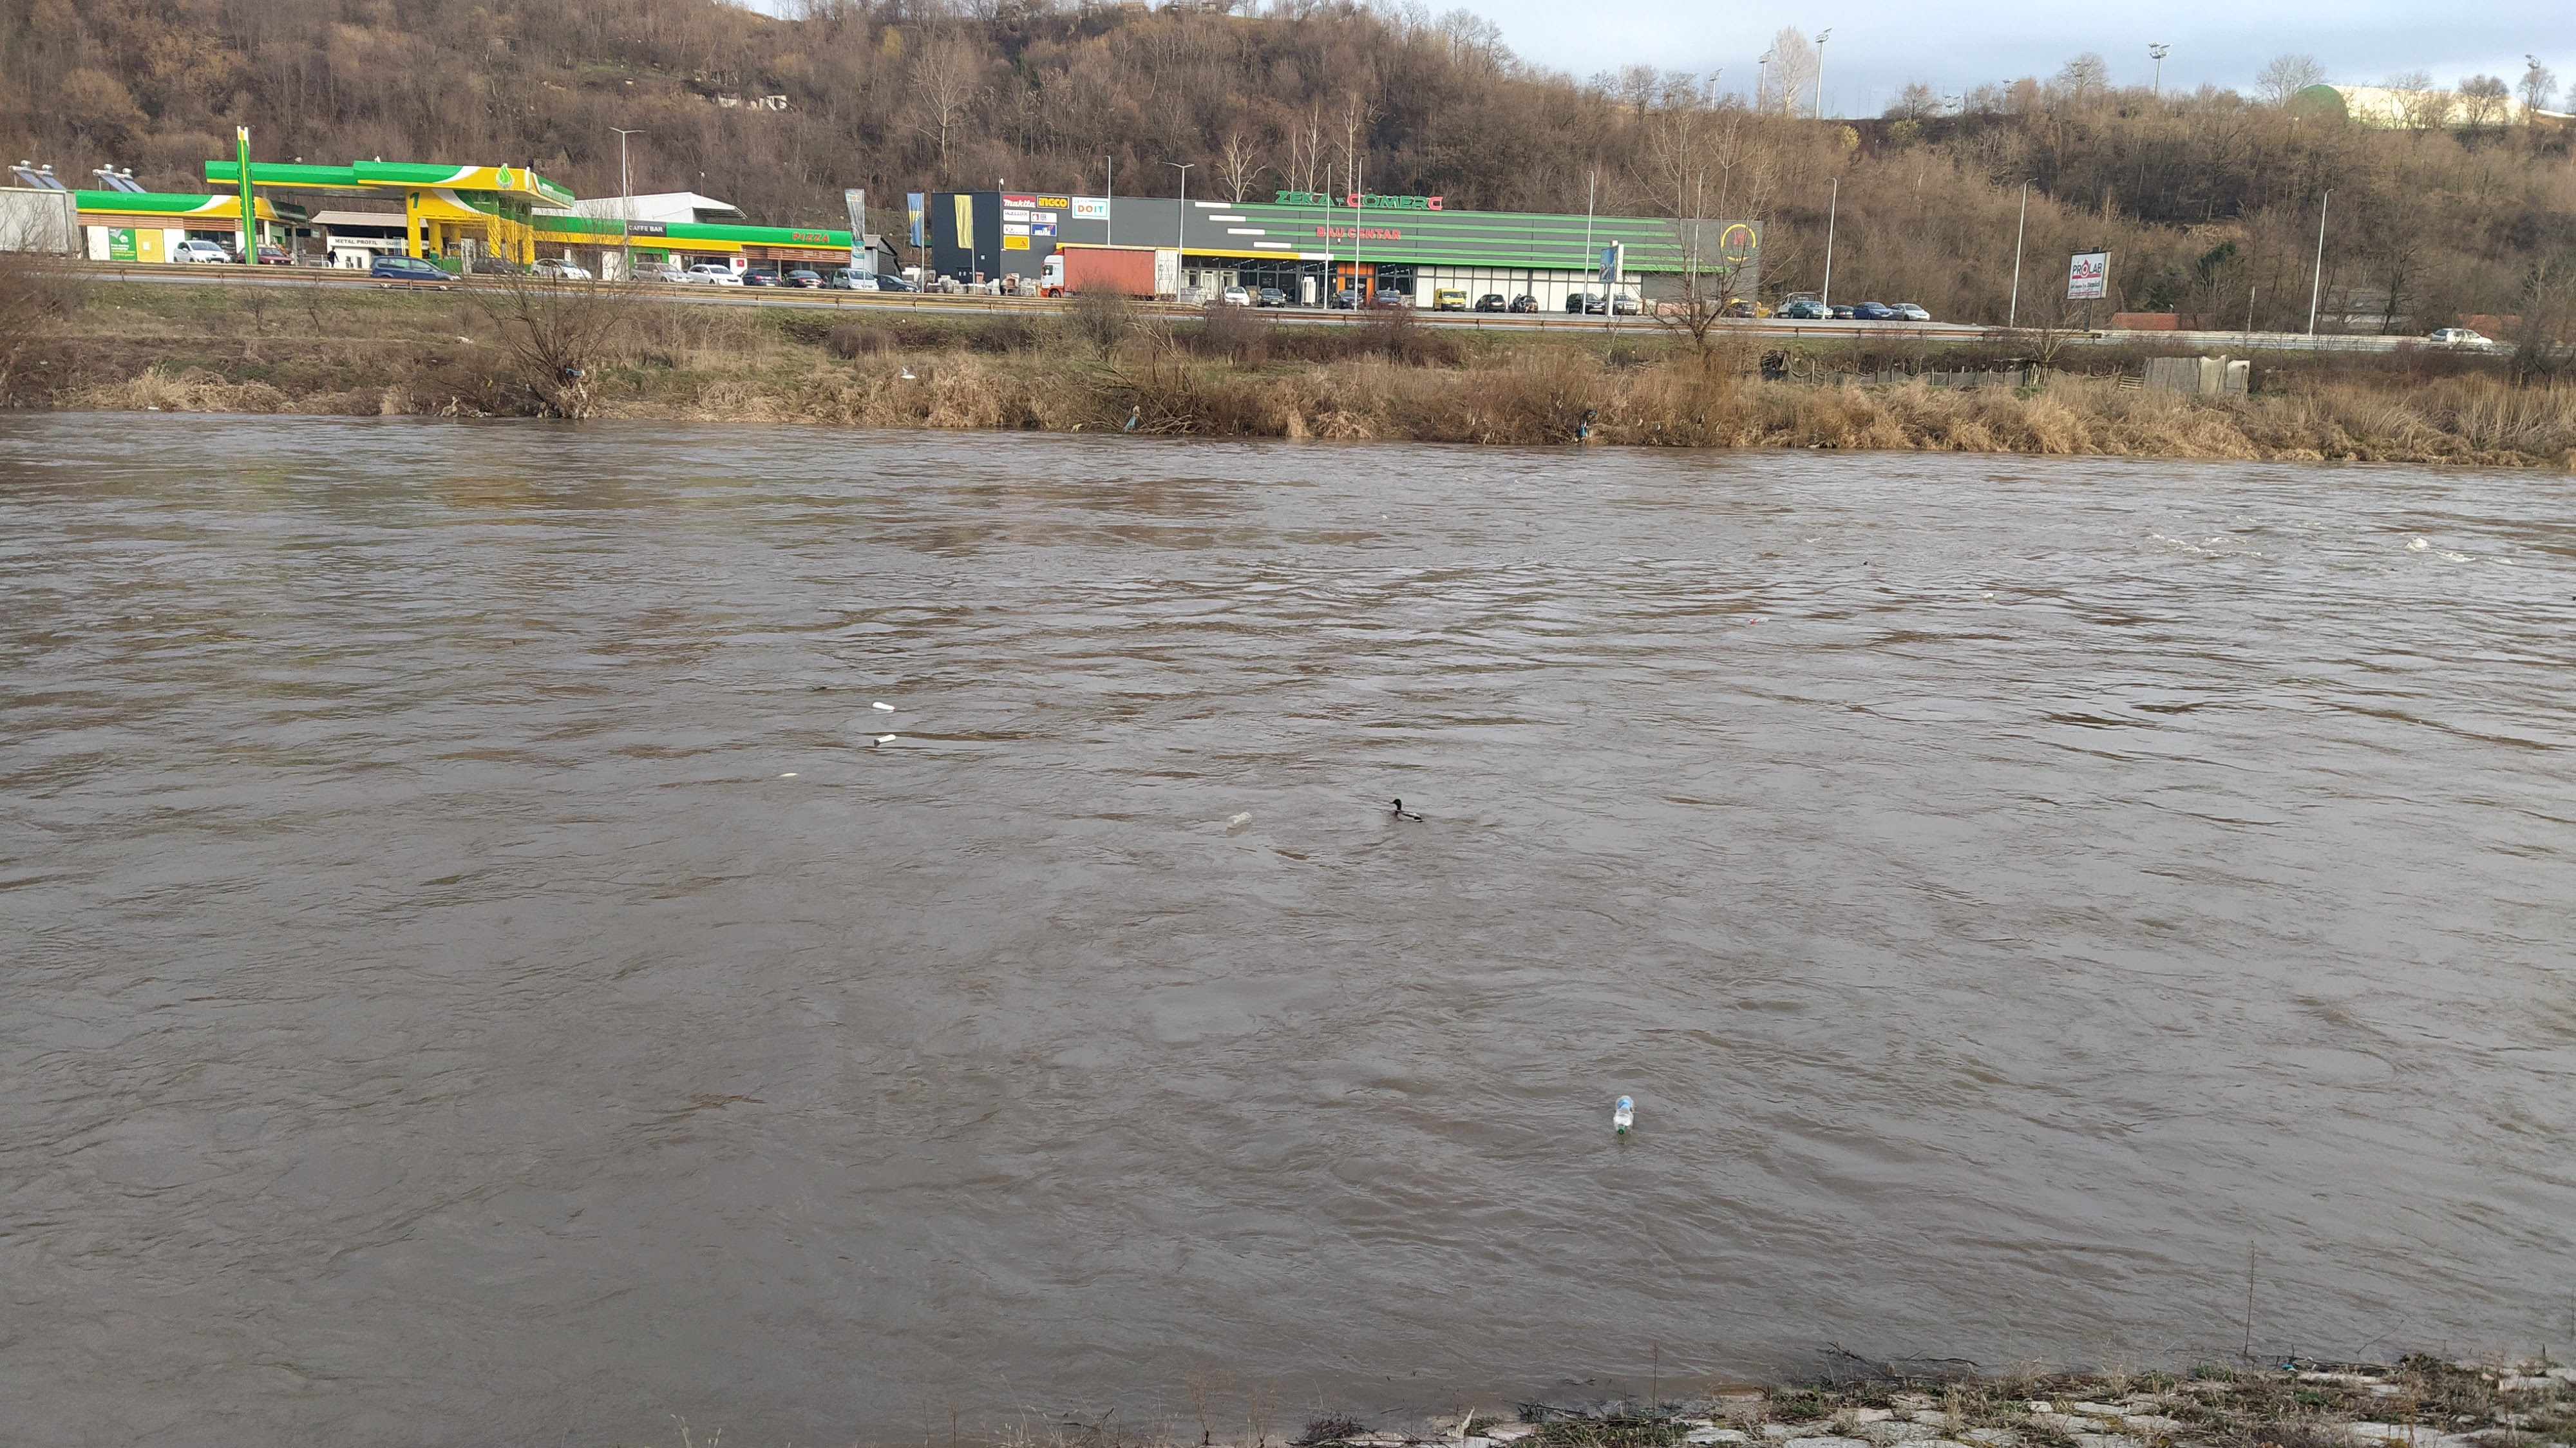Plastic Bottle: (1614, 1096, 1635, 1136), (1228, 811, 1253, 828), (874, 733, 895, 743), (874, 701, 893, 712), (131, 614, 154, 620), (1750, 618, 1769, 623), (1983, 593, 1994, 597), (147, 407, 159, 409)
